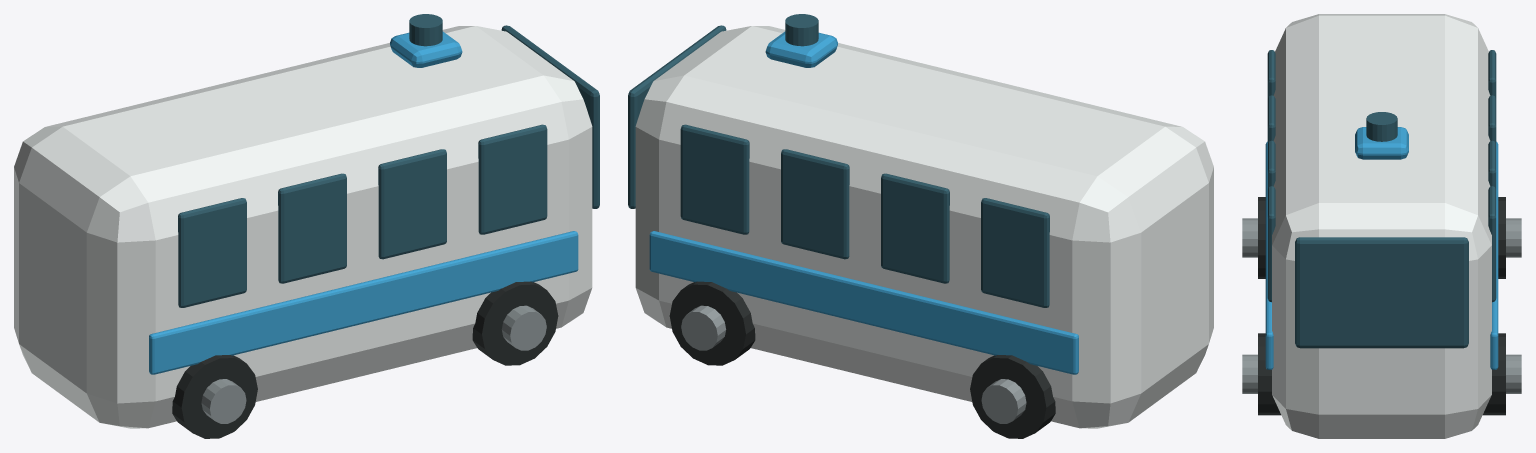
Rendered from transport-shuttle-bus.glb.
The picture shows the model from 3 angles, left to right: view 1: azimuth 30°, elevation 25°; view 2: azimuth 150°, elevation 25°; view 3: azimuth 270°, elevation 25°; orthographic projection. The views are drawn at different scales.
Parts seen in each view (by area): view 1: IslandCityShuttle; view 2: IslandCityShuttle; view 3: IslandCityShuttle.
Boxes of the visible parts, x1,y1,x2,y2 form: IslandCityShuttle: [14, 14, 599, 438]; IslandCityShuttle: [628, 14, 1213, 438]; IslandCityShuttle: [1242, 14, 1521, 438].
Bounding box in the file's own units: 5.52 × 3.18 × 2.86.
